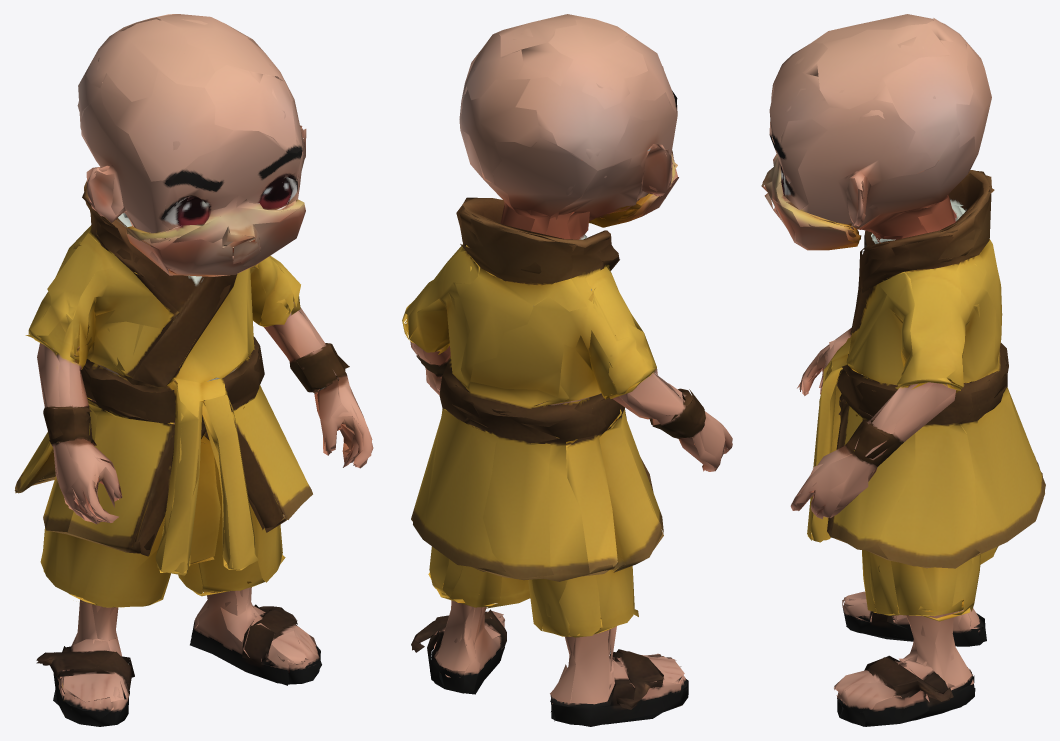
The model's file is moench.glb.
The picture shows the model from 3 angles, left to right: view 1: azimuth 30°, elevation 25°; view 2: azimuth 150°, elevation 25°; view 3: azimuth 270°, elevation 25°; orthographic projection. The views are drawn at different scales.
Visible parts, largest first — view 1: Moench; view 2: Moench; view 3: Moench.
Boxes of the visible parts, x1,y1,x2,y2 form: Moench: (14,14,373,726); Moench: (402,14,732,726); Moench: (761,14,1045,726).
Bounding box in the file's own units: 0.4696 × 0.9999 × 0.403.
1 material, 1 textured.
